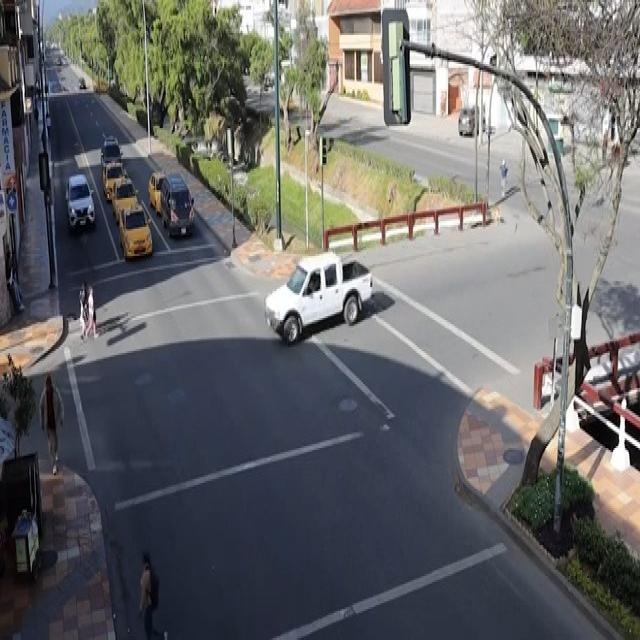CMT: (267, 257, 375, 335)
